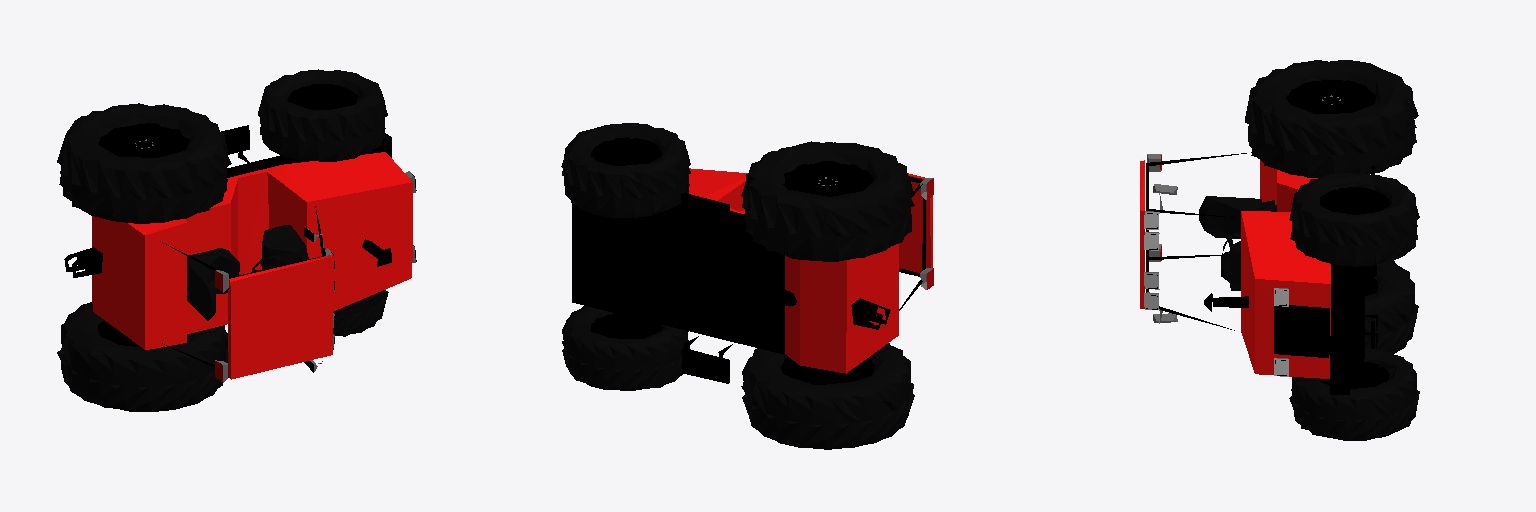
3 renders of one model, left to right at view 1: azimuth 30°, elevation 25°; view 2: azimuth 150°, elevation 25°; view 3: azimuth 270°, elevation 25°, orthographic.
Parts seen in each view (by area): view 1: Tractor; view 2: Tractor; view 3: Tractor.
Boxes of the visible parts, x1=… form: Tractor: x1=57, y1=69, x2=416, y2=411; Tractor: x1=561, y1=123, x2=933, y2=449; Tractor: x1=1140, y1=60, x2=1419, y2=440.
Size of the model in its own units: 3.37 by 2.48 by 2.53.
Materials: 12 (1 with a texture image).